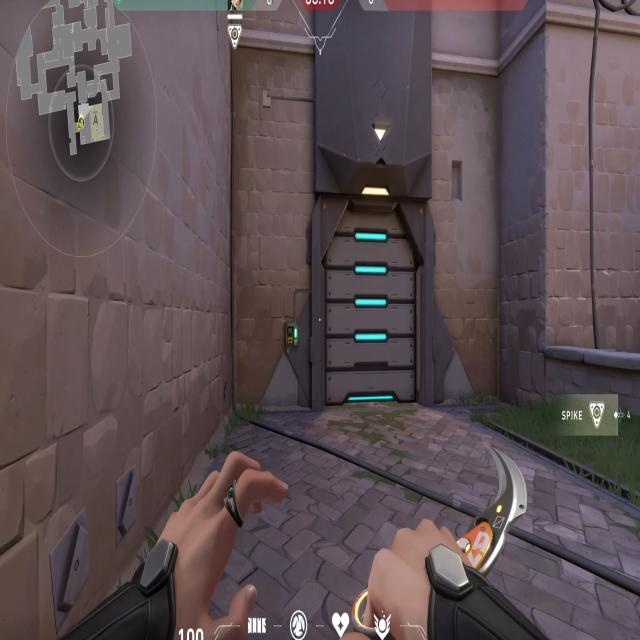A_Door: (314, 177, 431, 423)
